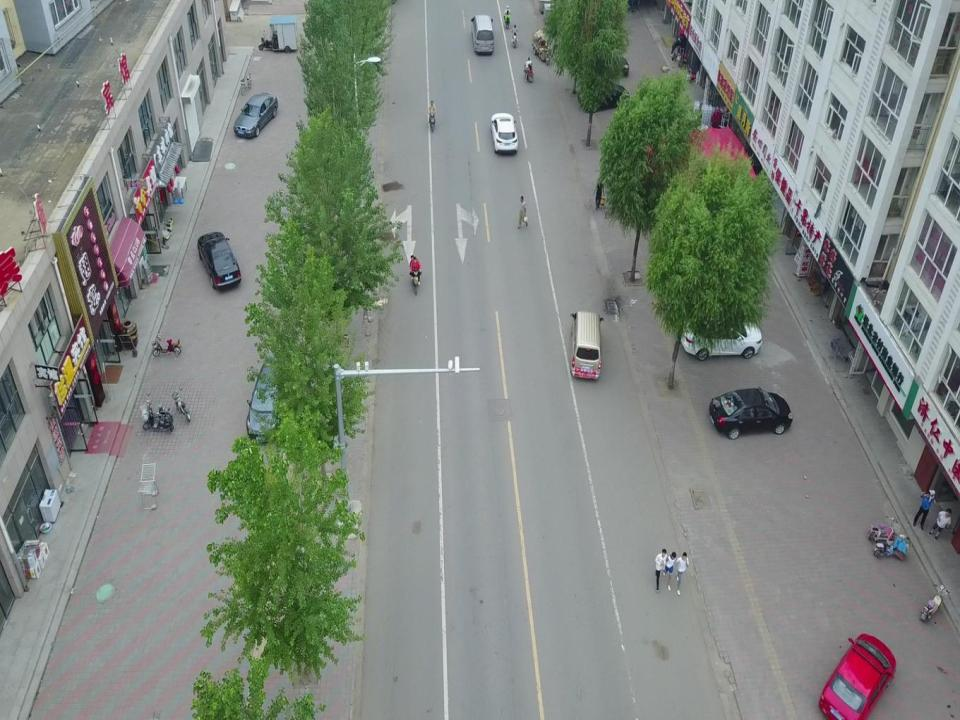car: (817, 632, 895, 720), (709, 387, 793, 439), (246, 360, 286, 442), (197, 232, 241, 288), (234, 92, 278, 136), (577, 82, 630, 113), (572, 54, 629, 81), (490, 113, 518, 153)
van: (570, 311, 604, 380), (470, 15, 494, 54)
